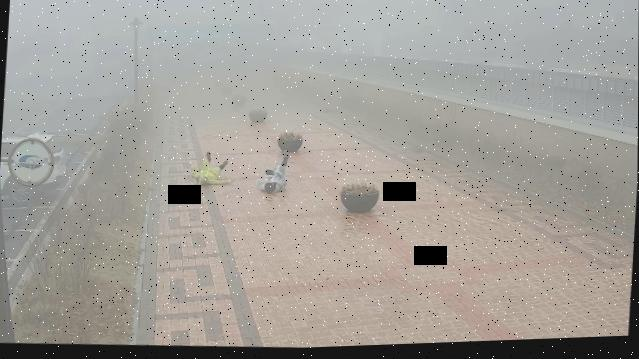fall: (187, 149, 233, 192), (253, 150, 291, 197)
